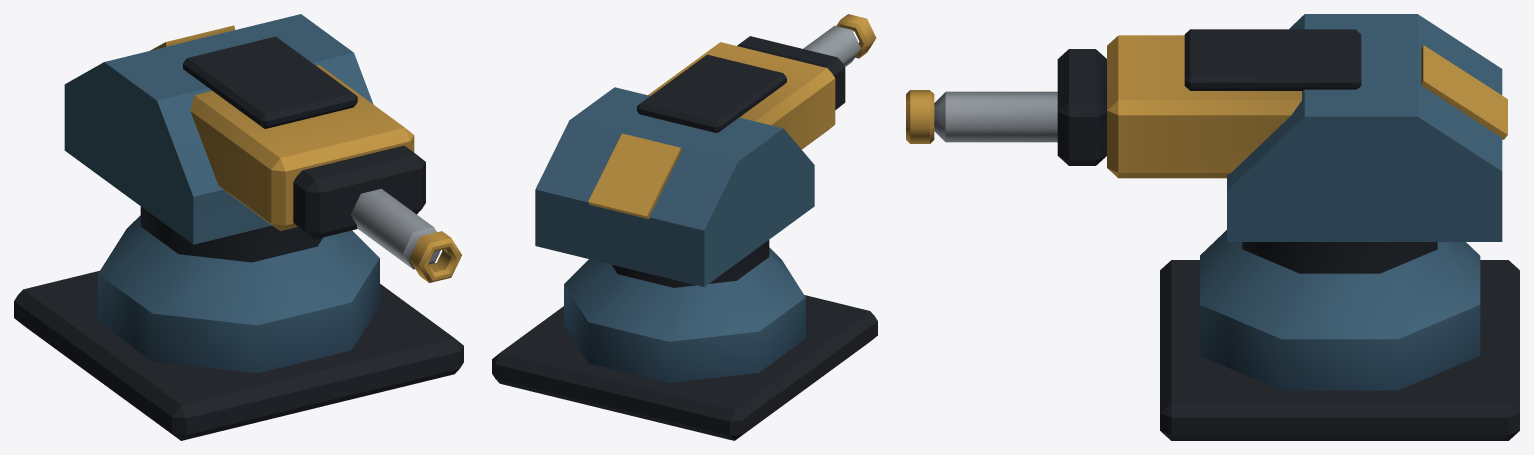
Rendered from R4W_Basic_LOD1.glb.
3 views of the same model, side by side, from view 1: azimuth 30°, elevation 25°; view 2: azimuth 150°, elevation 25°; view 3: azimuth 270°, elevation 25° (orthographic). The views are drawn at different scales.
Parts seen in each view (by area): view 1: R4W_Basic_LOD1; view 2: R4W_Basic_LOD1; view 3: R4W_Basic_LOD1.
Boxes of the visible parts, x1,y1,x2,y2 form: R4W_Basic_LOD1: (14, 14, 463, 440); R4W_Basic_LOD1: (492, 14, 877, 440); R4W_Basic_LOD1: (906, 14, 1519, 440).
Bounding box in the file's own units: 0.51 × 0.496 × 0.87.
